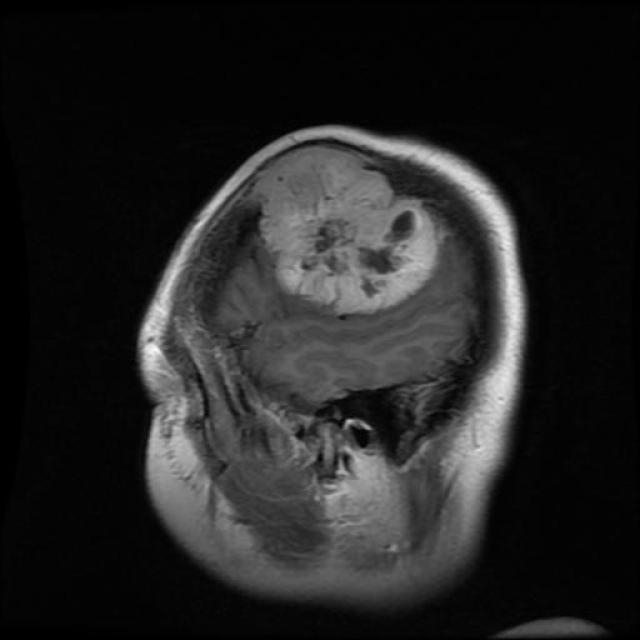meningioma: (251, 148, 438, 315)
